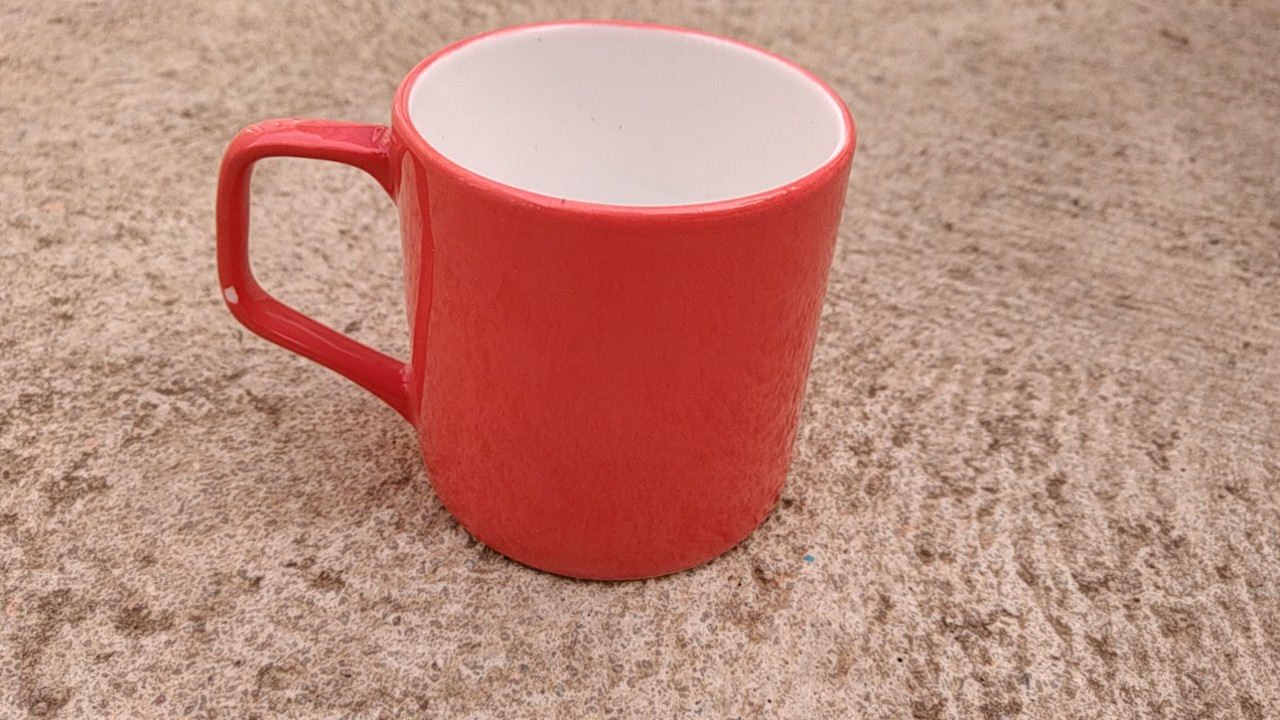cup: (196, 13, 875, 597)
